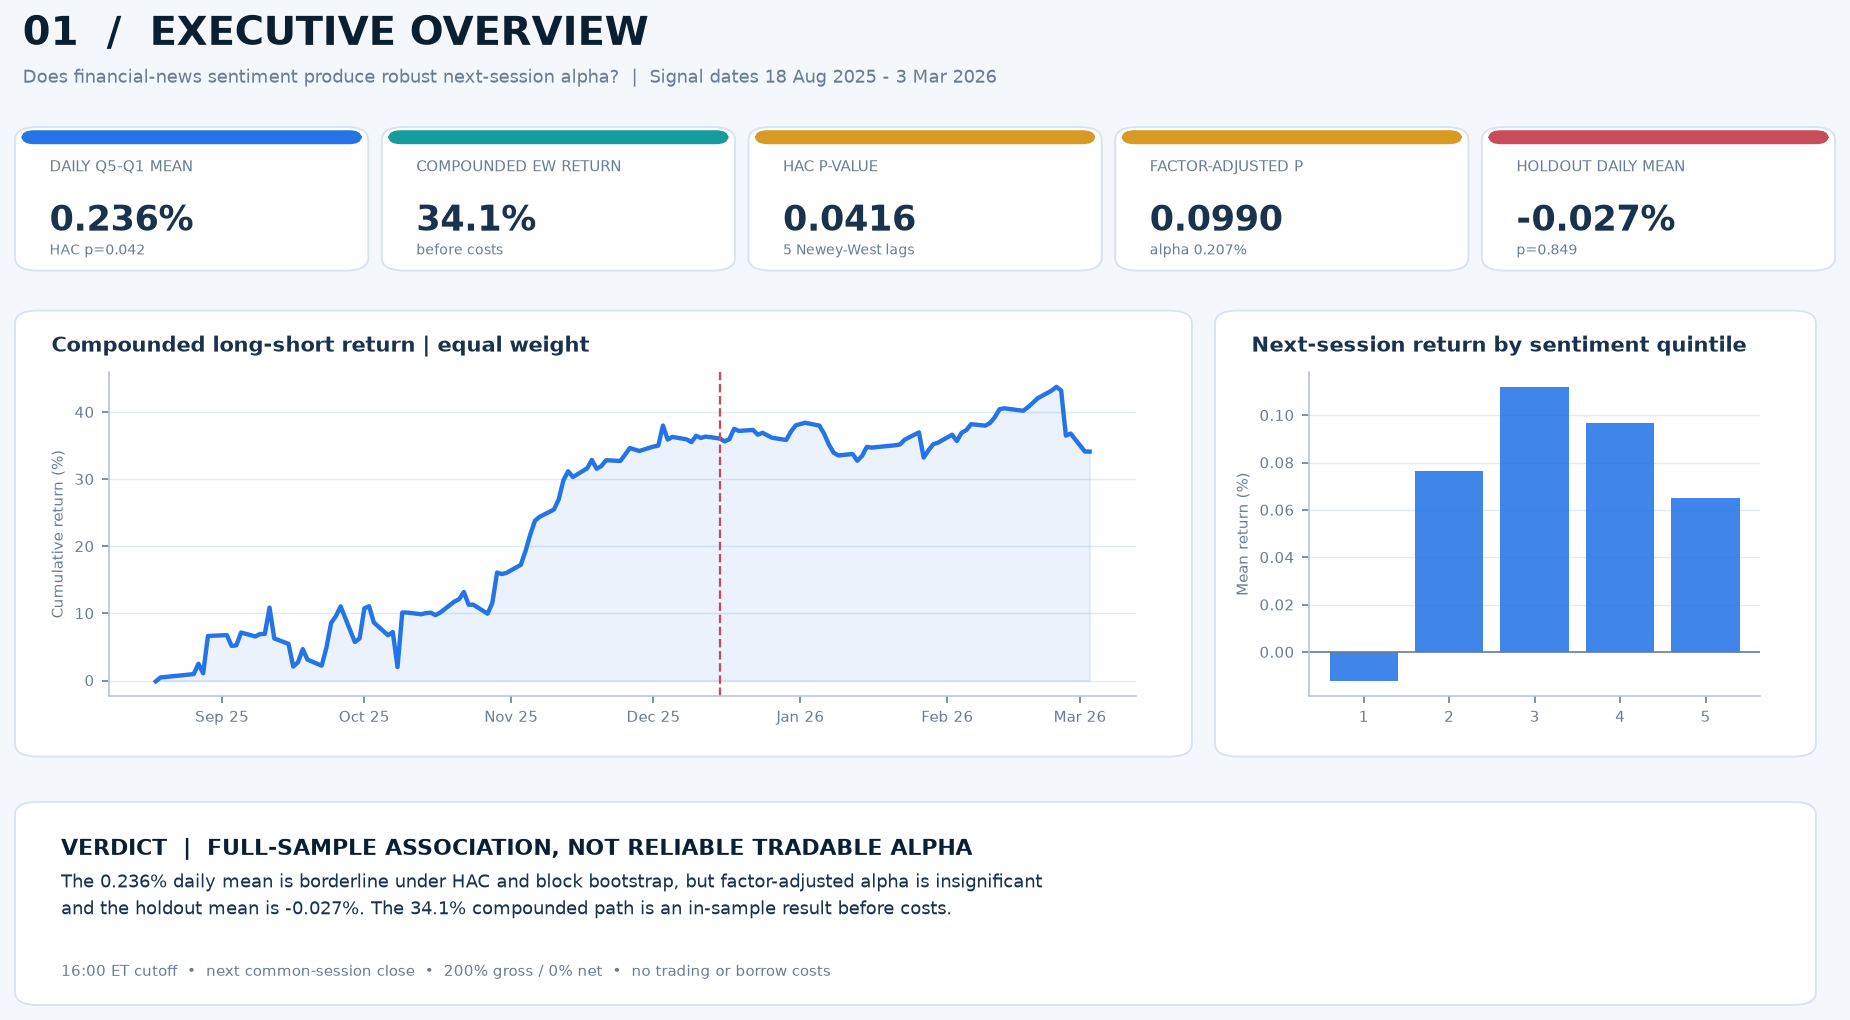

The dashboard page shown, as its layout file describes it:
{"tool":"powerbi","page":{"name":"01 Executive Overview","canvas":[1280,720],"ordinal":0},"visuals":[{"type":"textbox","box":[24,14,920,76],"z":0},{"type":"slicer","fields":{"Values":["fct_signal_daily.date_t"]},"box":[976,24,280,66],"z":1},{"type":"card","title":"Daily Q5-Q1 mean","fields":{"Values":["fct_signal_daily.Full Sample Mean"]},"box":[24,108,222,110],"z":2},{"type":"card","title":"Compounded EW return","fields":{"Values":["fct_signal_daily.Full Sample Cumulative Return"]},"box":[264,108,222,110],"z":3},{"type":"card","title":"HAC p-value","fields":{"Values":["fct_signal_daily.Full Sample HAC p-value"]},"box":[504,108,222,110],"z":4},{"type":"card","title":"Factor-adjusted p","fields":{"Values":["fct_signal_daily.Factor Alpha HAC p-value"]},"box":[744,108,222,110],"z":5},{"type":"card","title":"Holdout daily mean","fields":{"Values":["fct_signal_daily.Holdout Mean"]},"box":[984,108,272,110],"z":6},{"type":"areaChart","title":"Compounded long-short return | equal weight","fields":{"Category":["fct_signal_daily.date_t"],"Y":["fct_signal_daily.Cumulative Spread (EW)"]},"box":[24,236,760,310],"z":20},{"type":"clusteredColumnChart","title":"Next-session return by sentiment quintile","fields":{"Category":["fct_signal_panel (3).sentiment_quintile"],"Y":["Avg(fct_signal_panel (3).forward_return_close_to_close_1d)"]},"box":[804,236,452,310],"z":21},{"type":"textbox","box":[24,566,1232,130],"z":30}]}

Visuals, with their boxes in screenshot pixels (x1, y1, x2, y2), scaled from the page's 1280x720 canvas onto the 1850x1020 screenshot:
textbox: x1=35 y1=20 x2=1364 y2=128
slicer - fct_signal_daily.date_t: x1=1411 y1=34 x2=1815 y2=128
"Daily Q5-Q1 mean" card: x1=35 y1=153 x2=356 y2=309
"Compounded EW return" card: x1=382 y1=153 x2=702 y2=309
"HAC p-value" card: x1=728 y1=153 x2=1049 y2=309
"Factor-adjusted p" card: x1=1075 y1=153 x2=1396 y2=309
"Holdout daily mean" card: x1=1422 y1=153 x2=1815 y2=309
"Compounded long-short return | equal weight" areaChart: x1=35 y1=334 x2=1133 y2=774
"Next-session return by sentiment quintile" clusteredColumnChart: x1=1162 y1=334 x2=1815 y2=774
textbox: x1=35 y1=802 x2=1815 y2=986
